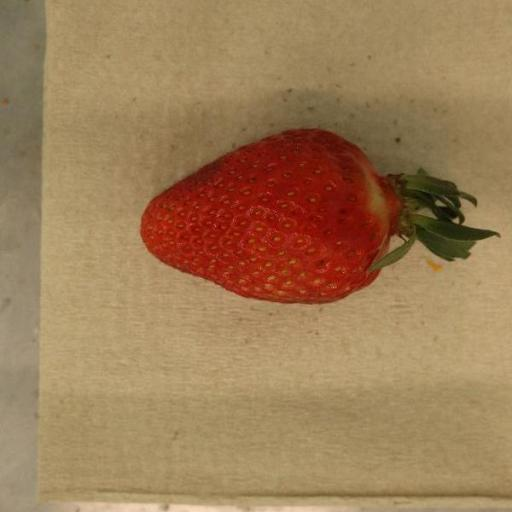Strawberry: (141, 129, 502, 305)
